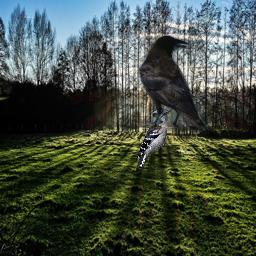Crow: (138, 35, 209, 135)
Woodpecker: (135, 107, 173, 171)
